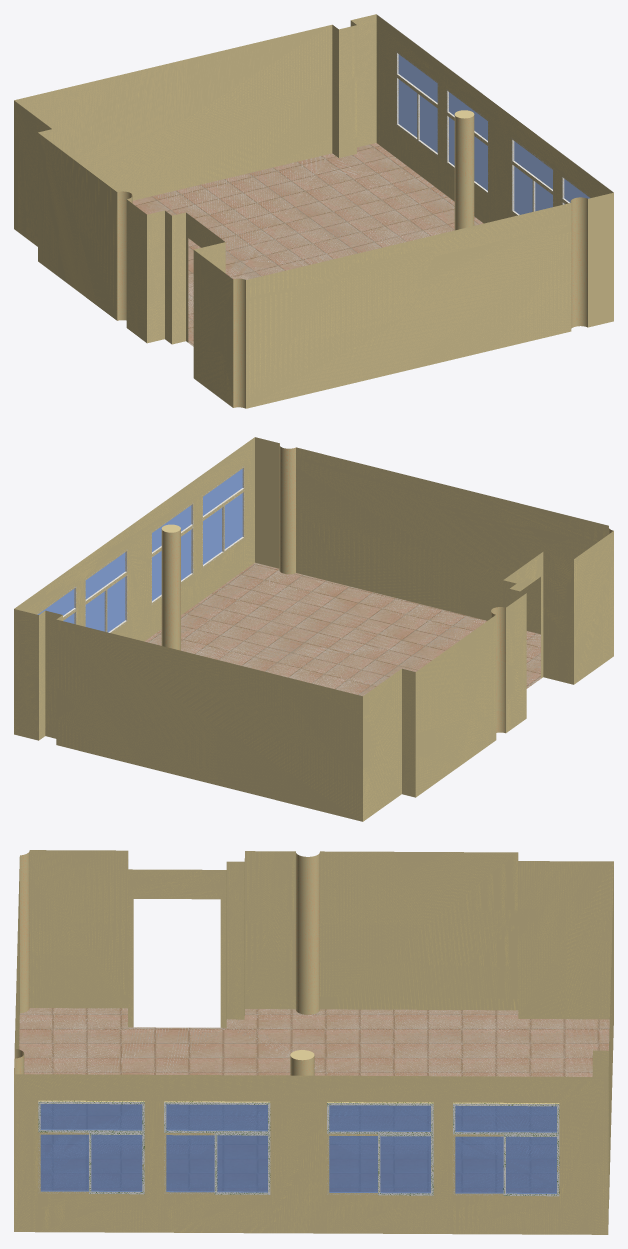
The model's file is AUL012.obj.
The picture shows the model from 3 angles, top to bottom: view 1: azimuth 30°, elevation 25°; view 2: azimuth 150°, elevation 25°; view 3: azimuth 270°, elevation 25°; orthographic projection. The views are drawn at different scales.
Parts seen in each view (by area): view 1: Mesh25 AUL012 Model, Mesh7 ventana1_1_2 AUL012 Model, Mesh1 ventana1_1_1 AUL012 Model, Mesh19 ventana1_1_4 AUL012 Model; view 2: Mesh25 AUL012 Model, Mesh13 ventana1_1_3 AUL012 Model, Mesh19 ventana1_1_4 AUL012 Model, Mesh1 ventana1_1_1 AUL012 Model, Mesh7 ventana1_1_2 AUL012 Model; view 3: Mesh25 AUL012 Model, Mesh1 ventana1_1_1 AUL012 Model, Mesh19 ventana1_1_4 AUL012 Model, Mesh13 ventana1_1_3 AUL012 Model, Mesh7 ventana1_1_2 AUL012 Model.
Part boxes in pixels (left/top/right/bottom): Mesh25 AUL012 Model: left=14, top=14, right=613, bottom=408; Mesh7 ventana1_1_2 AUL012 Model: left=396, top=50, right=438, bottom=156; Mesh1 ventana1_1_1 AUL012 Model: left=511, top=137, right=553, bottom=215; Mesh19 ventana1_1_4 AUL012 Model: left=446, top=88, right=488, bottom=194; Mesh25 AUL012 Model: left=14, top=437, right=613, bottom=821; Mesh13 ventana1_1_3 AUL012 Model: left=202, top=465, right=244, bottom=568; Mesh19 ventana1_1_4 AUL012 Model: left=84, top=549, right=127, bottom=633; Mesh1 ventana1_1_1 AUL012 Model: left=151, top=502, right=193, bottom=604; Mesh7 ventana1_1_2 AUL012 Model: left=36, top=585, right=76, bottom=624; Mesh25 AUL012 Model: left=14, top=850, right=613, bottom=1234; Mesh1 ventana1_1_1 AUL012 Model: left=164, top=1101, right=270, bottom=1194; Mesh19 ventana1_1_4 AUL012 Model: left=327, top=1102, right=433, bottom=1195; Mesh13 ventana1_1_3 AUL012 Model: left=38, top=1100, right=144, bottom=1194; Mesh7 ventana1_1_2 AUL012 Model: left=453, top=1102, right=559, bottom=1196.
Bounding box in the file's own units: 11.13 × 3.6 × 12.4.
Materials: 9 (2 with a texture image).
